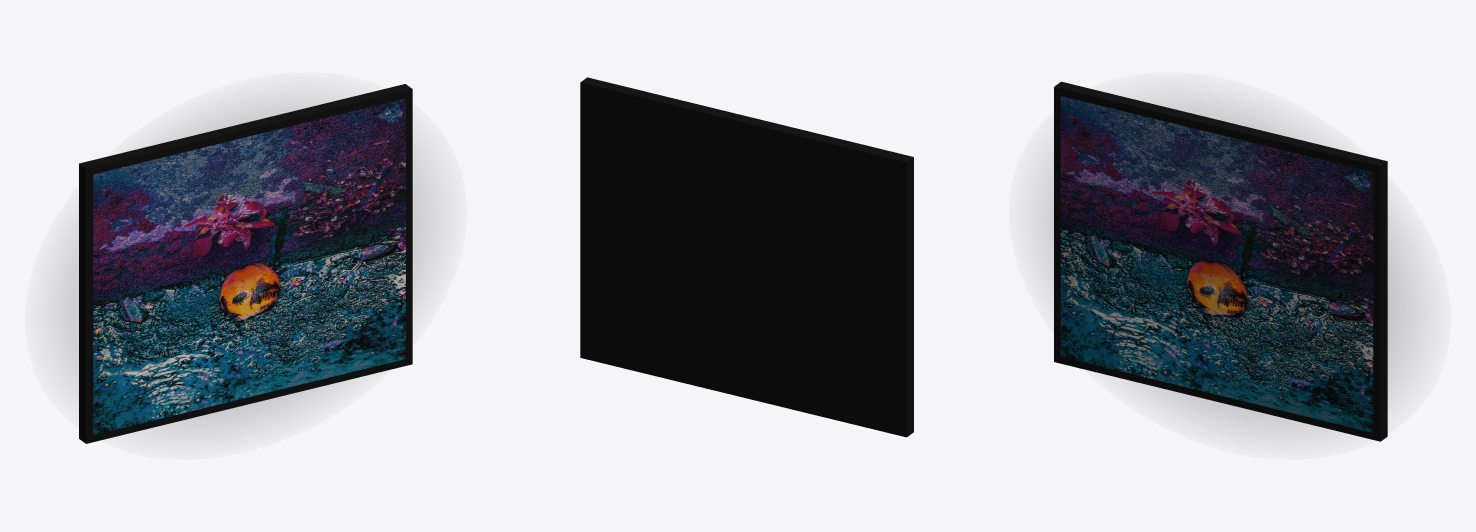
Rendered from after-the-fall.glb.
3 renders of one model, left to right at view 1: azimuth 30°, elevation 25°; view 2: azimuth 150°, elevation 25°; view 3: azimuth 330°, elevation 25°, orthographic.
Bounding box in the file's own units: 1.21 × 0.9709 × 0.0372.
3 materials, 2 textured.
